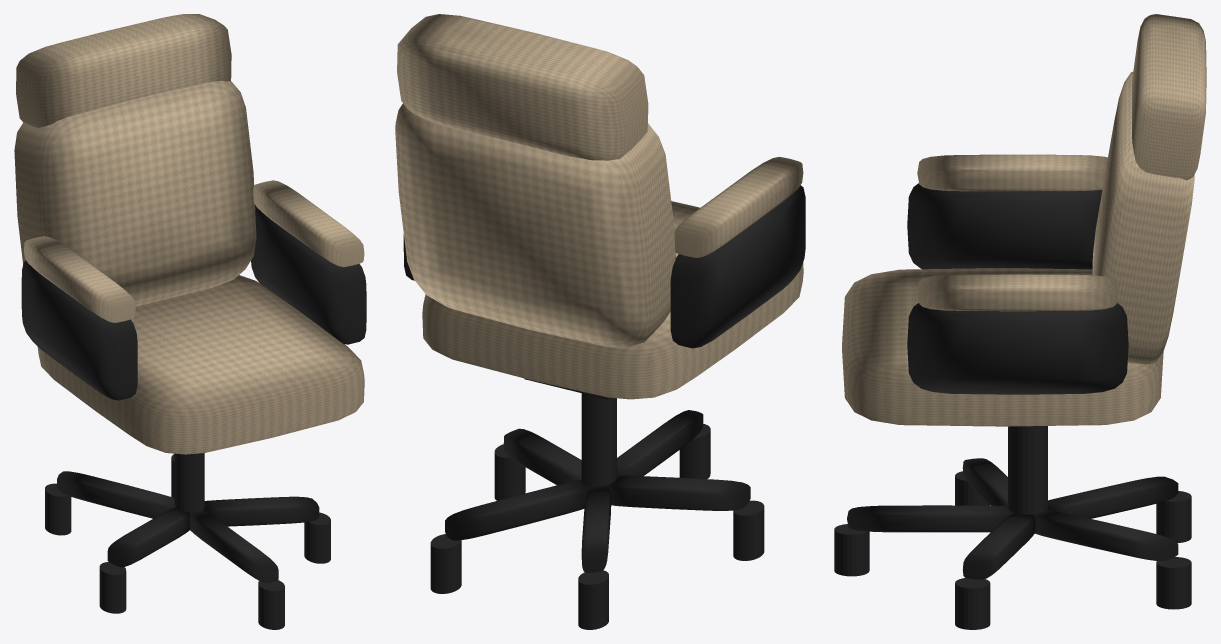
3 renders of one model, left to right at view 1: azimuth 30°, elevation 25°; view 2: azimuth 150°, elevation 25°; view 3: azimuth 270°, elevation 25°, orthographic. The views are drawn at different scales.
Parts seen in each view (by area): view 1: 2 backrest, 1 seat, 3 headrest, 4 left_armrest_frame, 6 right_armrest_frame, 7 right_armrest_pad, 5 left_armrest_pad, 13 base_spoke_4, 11 base_spoke_2, 10 base_spoke_1, 14 base_spoke_5, 9 gas_lift_cylinder (+4 smaller); view 2: 2 backrest, 3 headrest, 1 seat, 4 left_armrest_frame, 5 left_armrest_pad, 12 base_spoke_3, 14 base_spoke_5, 9 gas_lift_cylinder, 10 base_spoke_1, 11 base_spoke_2, 13 base_spoke_4, 19 wheel_5 (+4 smaller); view 3: 1 seat, 6 right_armrest_frame, 2 backrest, 4 left_armrest_frame, 3 headrest, 7 right_armrest_pad, 5 left_armrest_pad, 10 base_spoke_1, 12 base_spoke_3, 9 gas_lift_cylinder, 13 base_spoke_4, 11 base_spoke_2 (+6 smaller).
Boxes of the visible parts, box(x1,y1,x2,y2) form: 2 backrest: box(14, 81, 256, 306); 1 seat: box(37, 275, 364, 454); 3 headrest: box(16, 14, 231, 127); 4 left_armrest_frame: box(21, 260, 137, 400); 6 right_armrest_frame: box(251, 205, 366, 344); 7 right_armrest_pad: box(253, 180, 364, 267); 5 left_armrest_pad: box(24, 236, 135, 322); 13 base_spoke_4: box(57, 471, 175, 518); 11 base_spoke_2: box(203, 496, 319, 526); 10 base_spoke_1: box(190, 510, 278, 583); 14 base_spoke_5: box(107, 507, 189, 567); 9 gas_lift_cylinder: box(174, 453, 204, 512); 2 backrest: box(395, 103, 675, 348); 3 headrest: box(397, 14, 648, 160); 1 seat: box(422, 201, 803, 399); 4 left_armrest_frame: box(670, 185, 805, 348); 5 left_armrest_pad: box(674, 156, 803, 257); 12 base_spoke_3: box(445, 480, 589, 540); 14 base_spoke_5: box(608, 475, 750, 510); 9 gas_lift_cylinder: box(581, 393, 616, 487); 10 base_spoke_1: box(617, 410, 703, 476); 11 base_spoke_2: box(503, 428, 581, 485); 13 base_spoke_4: box(581, 485, 611, 572); 19 wheel_5: box(733, 500, 764, 560); 1 seat: box(842, 268, 1163, 426); 6 right_armrest_frame: box(907, 303, 1128, 394); 2 backrest: box(1092, 72, 1194, 364); 4 left_armrest_frame: box(907, 183, 1102, 269); 3 headrest: box(1132, 14, 1206, 180); 7 right_armrest_pad: box(917, 274, 1118, 311); 5 left_armrest_pad: box(917, 154, 1107, 191); 10 base_spoke_1: box(847, 505, 1013, 532); 12 base_spoke_3: box(1033, 510, 1178, 561); 9 gas_lift_cylinder: box(1008, 426, 1047, 514); 13 base_spoke_4: box(1047, 476, 1178, 518); 11 base_spoke_2: box(962, 513, 1035, 579).
Bounding box in the file's own units: 0.6287 × 1.12 × 0.7303.
3 materials, 1 textured.
